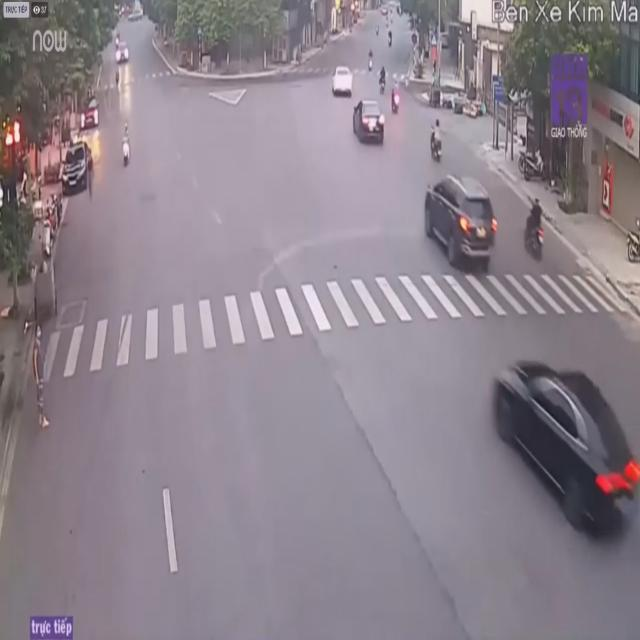car: (486, 360, 637, 538), (425, 174, 500, 272), (61, 138, 92, 194), (353, 100, 386, 145), (332, 64, 354, 98)
motorbike: (522, 191, 543, 257), (428, 118, 443, 163)
